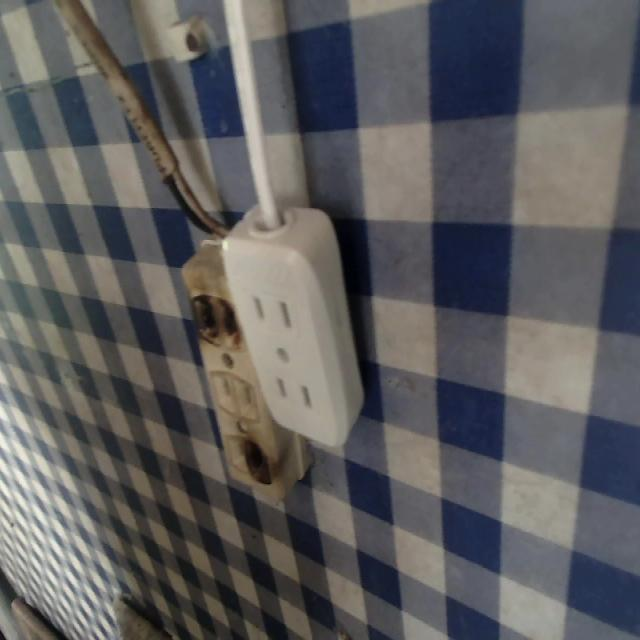-: (186, 284, 248, 351), (241, 431, 273, 489)
